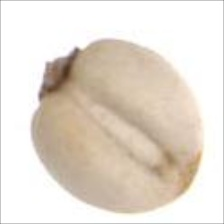L5: (70, 89, 169, 172), (152, 145, 206, 211), (34, 44, 86, 107)
L6: (28, 37, 207, 215)
